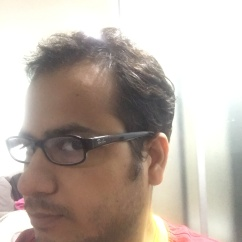glasses: (7, 134, 153, 163)
